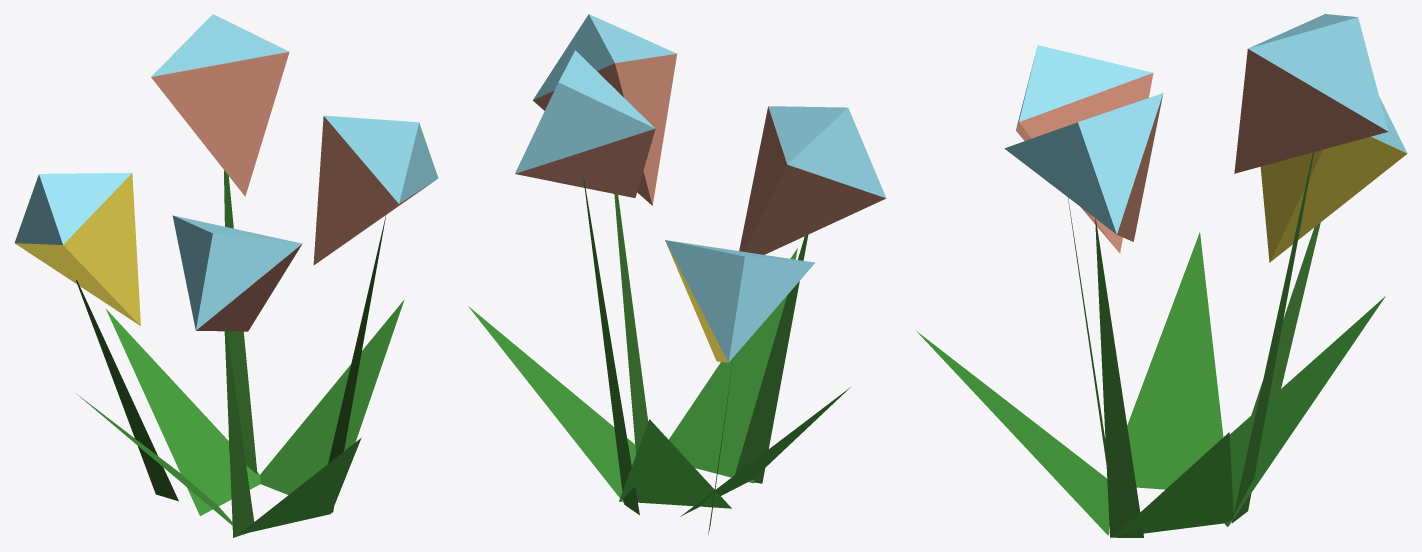
File: plant_tinctoria_c.obj
The picture shows the model from 3 angles, left to right: view 1: azimuth 30°, elevation 25°; view 2: azimuth 150°, elevation 25°; view 3: azimuth 270°, elevation 25°; orthographic projection. The views are drawn at different scales.
Parts seen in each view (by area): view 1: plant_tinctoria_c_8, plant_tinctoria_c_11, plant_tinctoria_c_13, plant_tinctoria_c_1, plant_tinctoria_c_12, plant_tinctoria_c_5, plant_tinctoria_c_4, plant_tinctoria_c_10, plant_tinctoria_c_7, plant_tinctoria_c_15, plant_tinctoria_c_0, plant_tinctoria_c_2 (+4 smaller); view 2: plant_tinctoria_c_10, plant_tinctoria_c_2, plant_tinctoria_c_15, plant_tinctoria_c_7, plant_tinctoria_c_1, plant_tinctoria_c_12, plant_tinctoria_c_13, plant_tinctoria_c_5, plant_tinctoria_c_8, plant_tinctoria_c_4, plant_tinctoria_c_0, plant_tinctoria_c_3 (+3 smaller); view 3: plant_tinctoria_c_14, plant_tinctoria_c_4, plant_tinctoria_c_8, plant_tinctoria_c_11, plant_tinctoria_c_7, plant_tinctoria_c_13, plant_tinctoria_c_15, plant_tinctoria_c_3, plant_tinctoria_c_12, plant_tinctoria_c_1, plant_tinctoria_c_2, plant_tinctoria_c_6 (+2 smaller).
Part boxes in pixels (box(x1,y1,x2,y2)): plant_tinctoria_c_8: box(151, 52, 289, 196); plant_tinctoria_c_11: box(15, 173, 140, 325); plant_tinctoria_c_13: box(105, 308, 260, 515); plant_tinctoria_c_1: box(172, 215, 301, 330); plant_tinctoria_c_12: box(260, 299, 404, 494); plant_tinctoria_c_5: box(313, 116, 433, 265); plant_tinctoria_c_4: box(324, 115, 438, 203); plant_tinctoria_c_10: box(14, 172, 131, 244); plant_tinctoria_c_7: box(151, 14, 288, 76); plant_tinctoria_c_15: box(239, 438, 361, 533); plant_tinctoria_c_0: box(224, 327, 254, 537); plant_tinctoria_c_2: box(196, 244, 301, 331); plant_tinctoria_c_10: box(665, 240, 814, 362); plant_tinctoria_c_2: box(739, 106, 885, 254); plant_tinctoria_c_15: box(669, 248, 797, 483); plant_tinctoria_c_7: box(515, 50, 654, 173); plant_tinctoria_c_1: box(768, 106, 885, 197); plant_tinctoria_c_12: box(468, 306, 635, 504); plant_tinctoria_c_13: box(619, 419, 731, 508); plant_tinctoria_c_5: box(533, 53, 676, 205); plant_tinctoria_c_8: box(515, 128, 655, 197); plant_tinctoria_c_4: box(533, 14, 676, 99); plant_tinctoria_c_0: box(735, 235, 808, 483); plant_tinctoria_c_3: box(614, 194, 648, 454); plant_tinctoria_c_14: box(1127, 232, 1223, 489); plant_tinctoria_c_4: box(1004, 93, 1163, 234); plant_tinctoria_c_8: box(1234, 49, 1387, 173); plant_tinctoria_c_11: box(1260, 136, 1407, 262); plant_tinctoria_c_7: box(1248, 14, 1388, 131); plant_tinctoria_c_13: box(1224, 296, 1385, 526); plant_tinctoria_c_15: box(916, 331, 1109, 535); plant_tinctoria_c_3: box(1095, 218, 1143, 537); plant_tinctoria_c_12: box(1113, 432, 1233, 536); plant_tinctoria_c_1: box(1016, 45, 1152, 128); plant_tinctoria_c_2: box(1016, 73, 1153, 252); plant_tinctoria_c_6: box(1232, 152, 1314, 523).
Size of the model in its own units: 0.4859 by 0.5778 by 0.5043.
